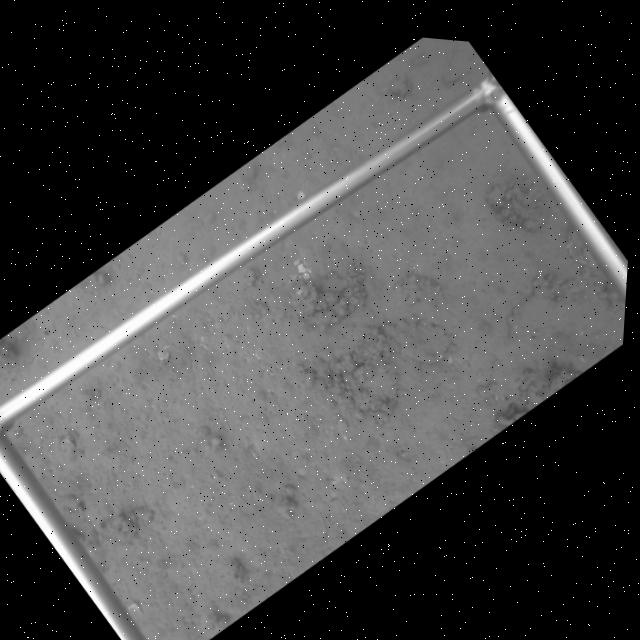Oyster-Indeterminate: (379, 317, 455, 366), (563, 222, 603, 269)
